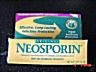grozi_19: (2, 12, 88, 64)
